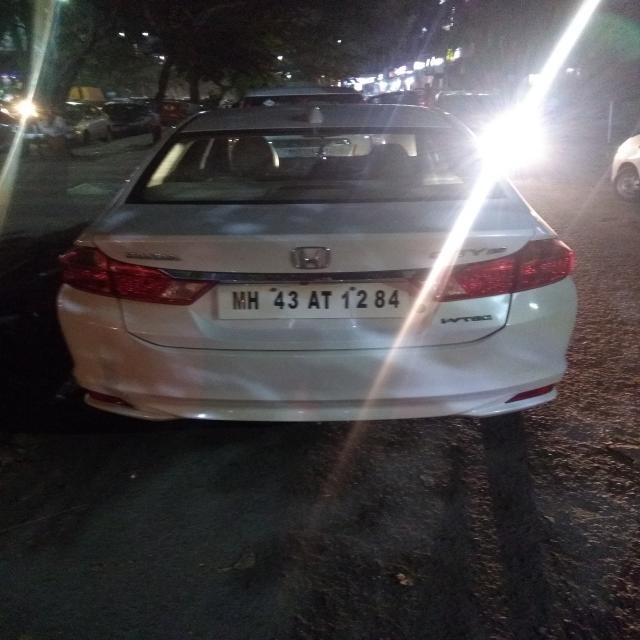Number-Plate: (216, 283, 418, 318)
